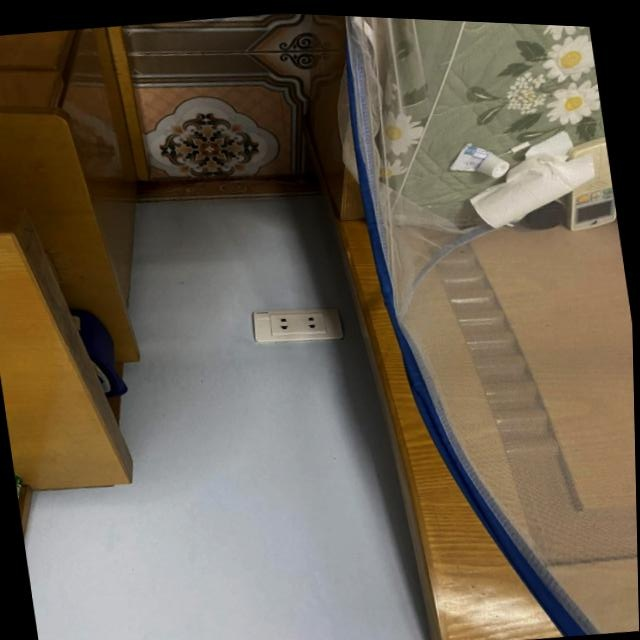outlet: (250, 302, 344, 351)
